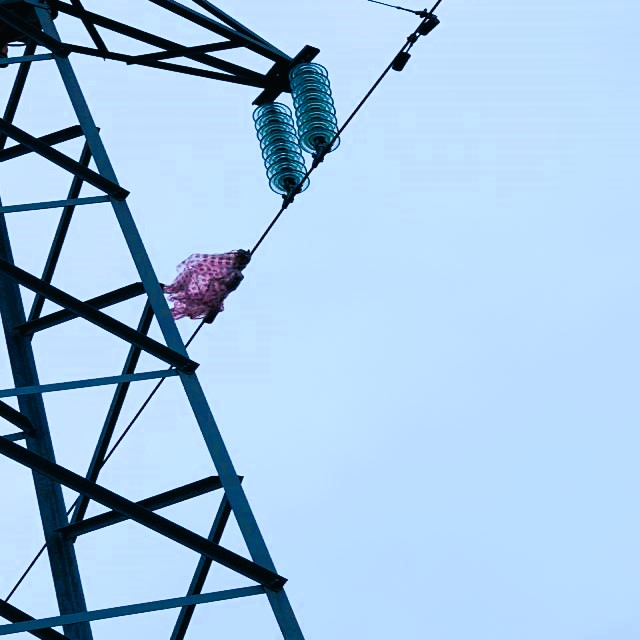wire foreign body: (163, 240, 265, 335)
